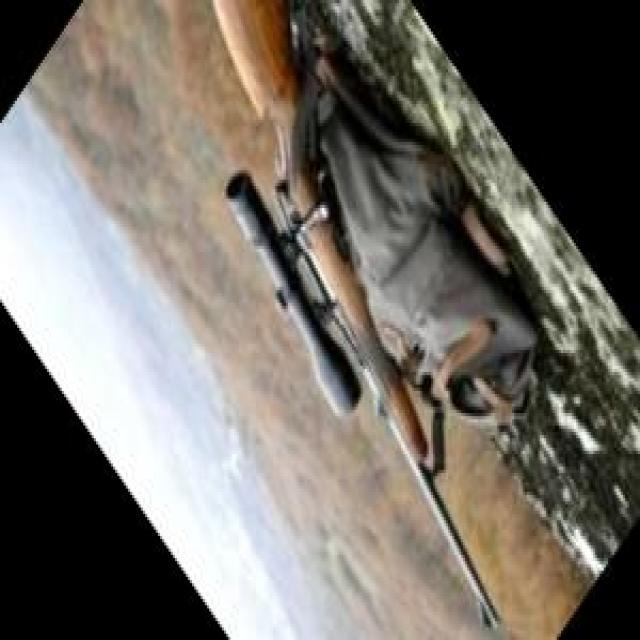weapon: (214, 0, 504, 632)
